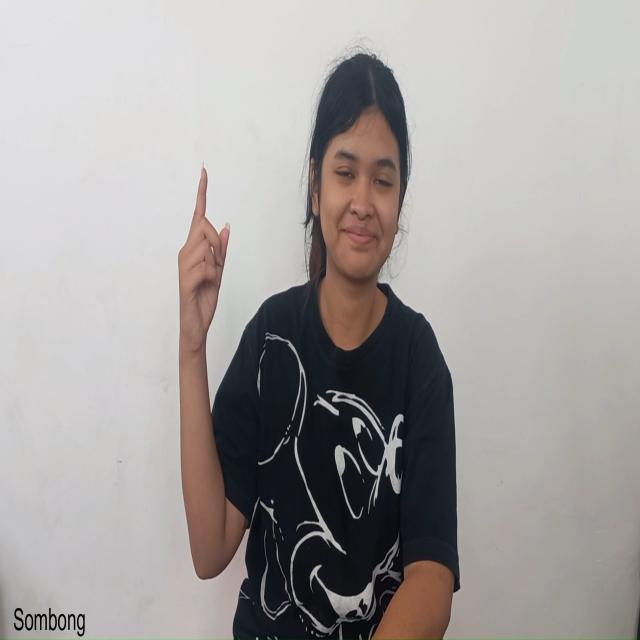Sombong -BISINDO-: (176, 159, 232, 585)
